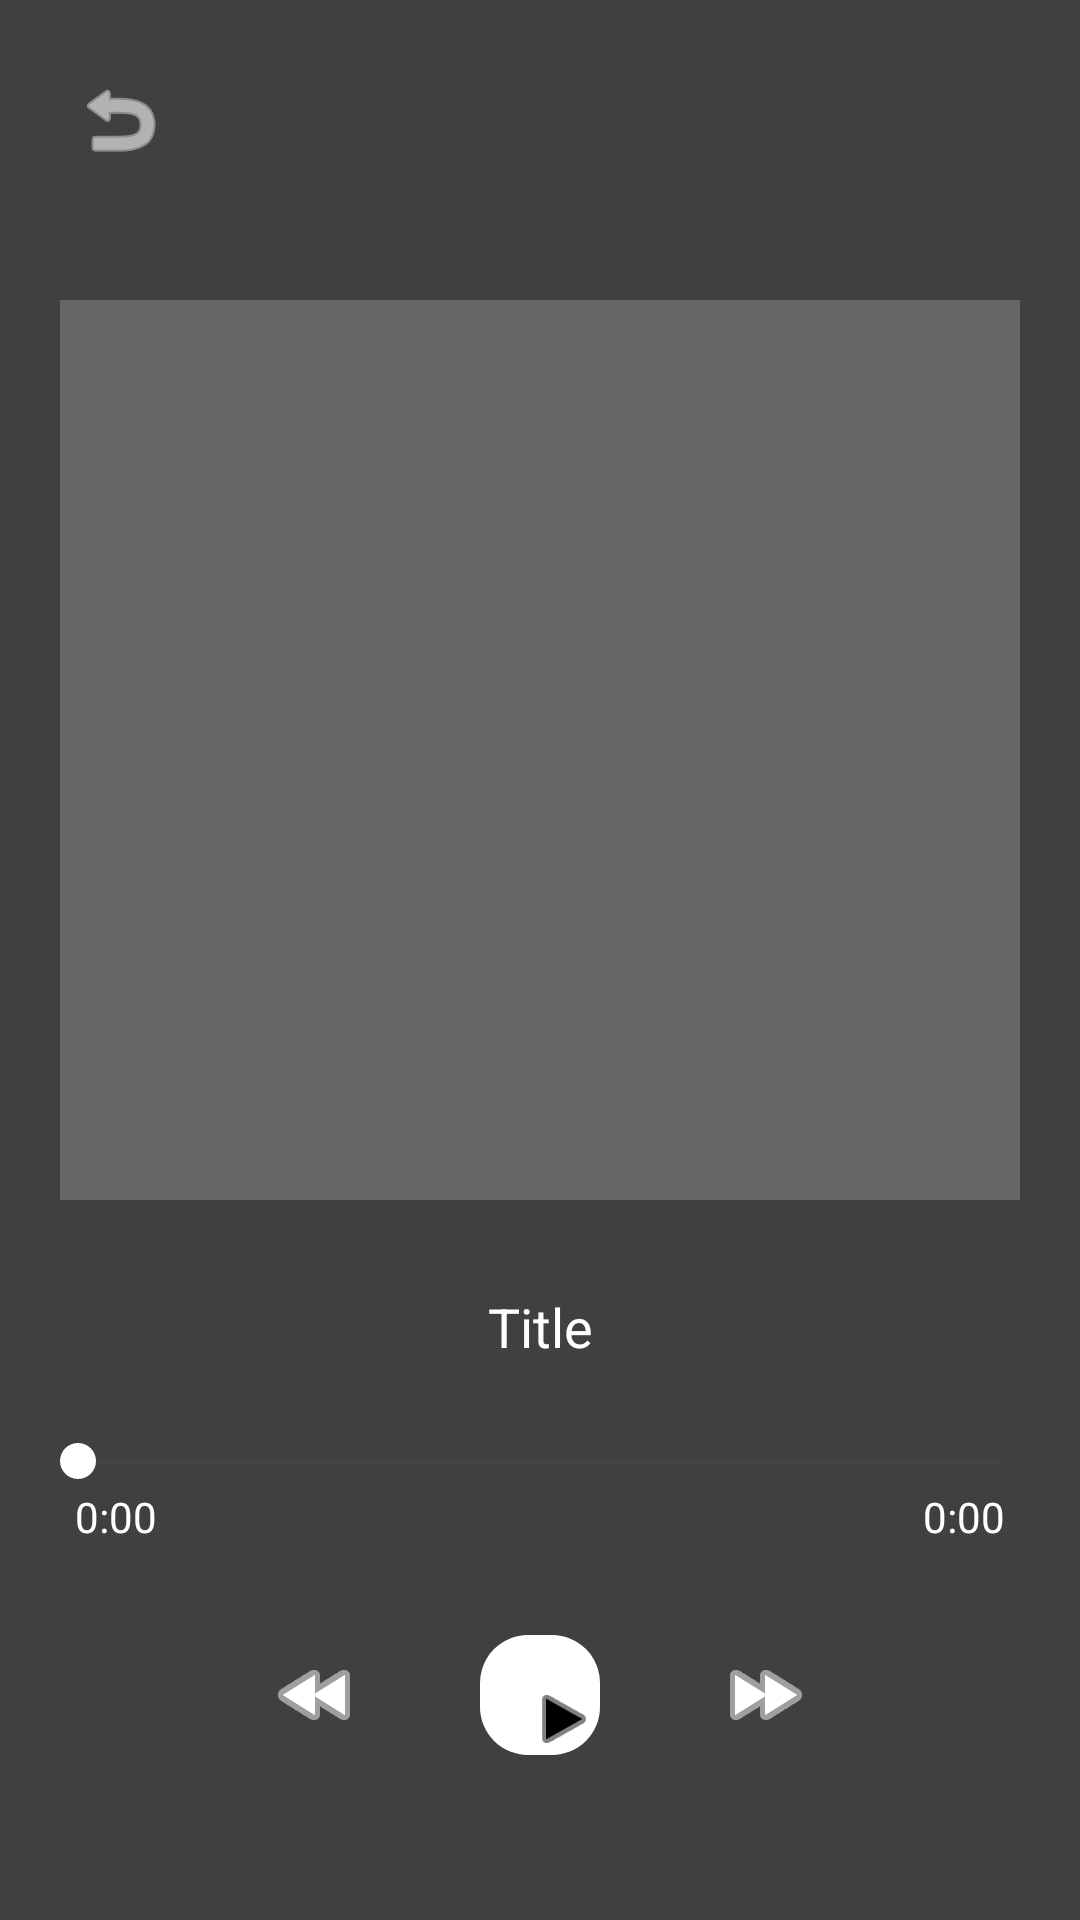

Icon bounding boxes for this 1080*1920 phone screenshot, format rect(x1, y1, x2, y2):
再生または一時停止: rect(480, 1635, 600, 1755)
前の曲に戻る: rect(278, 1670, 350, 1720)
曲の選択画面に戻る: rect(87, 89, 156, 152)
次の曲へ: rect(730, 1670, 802, 1720)
